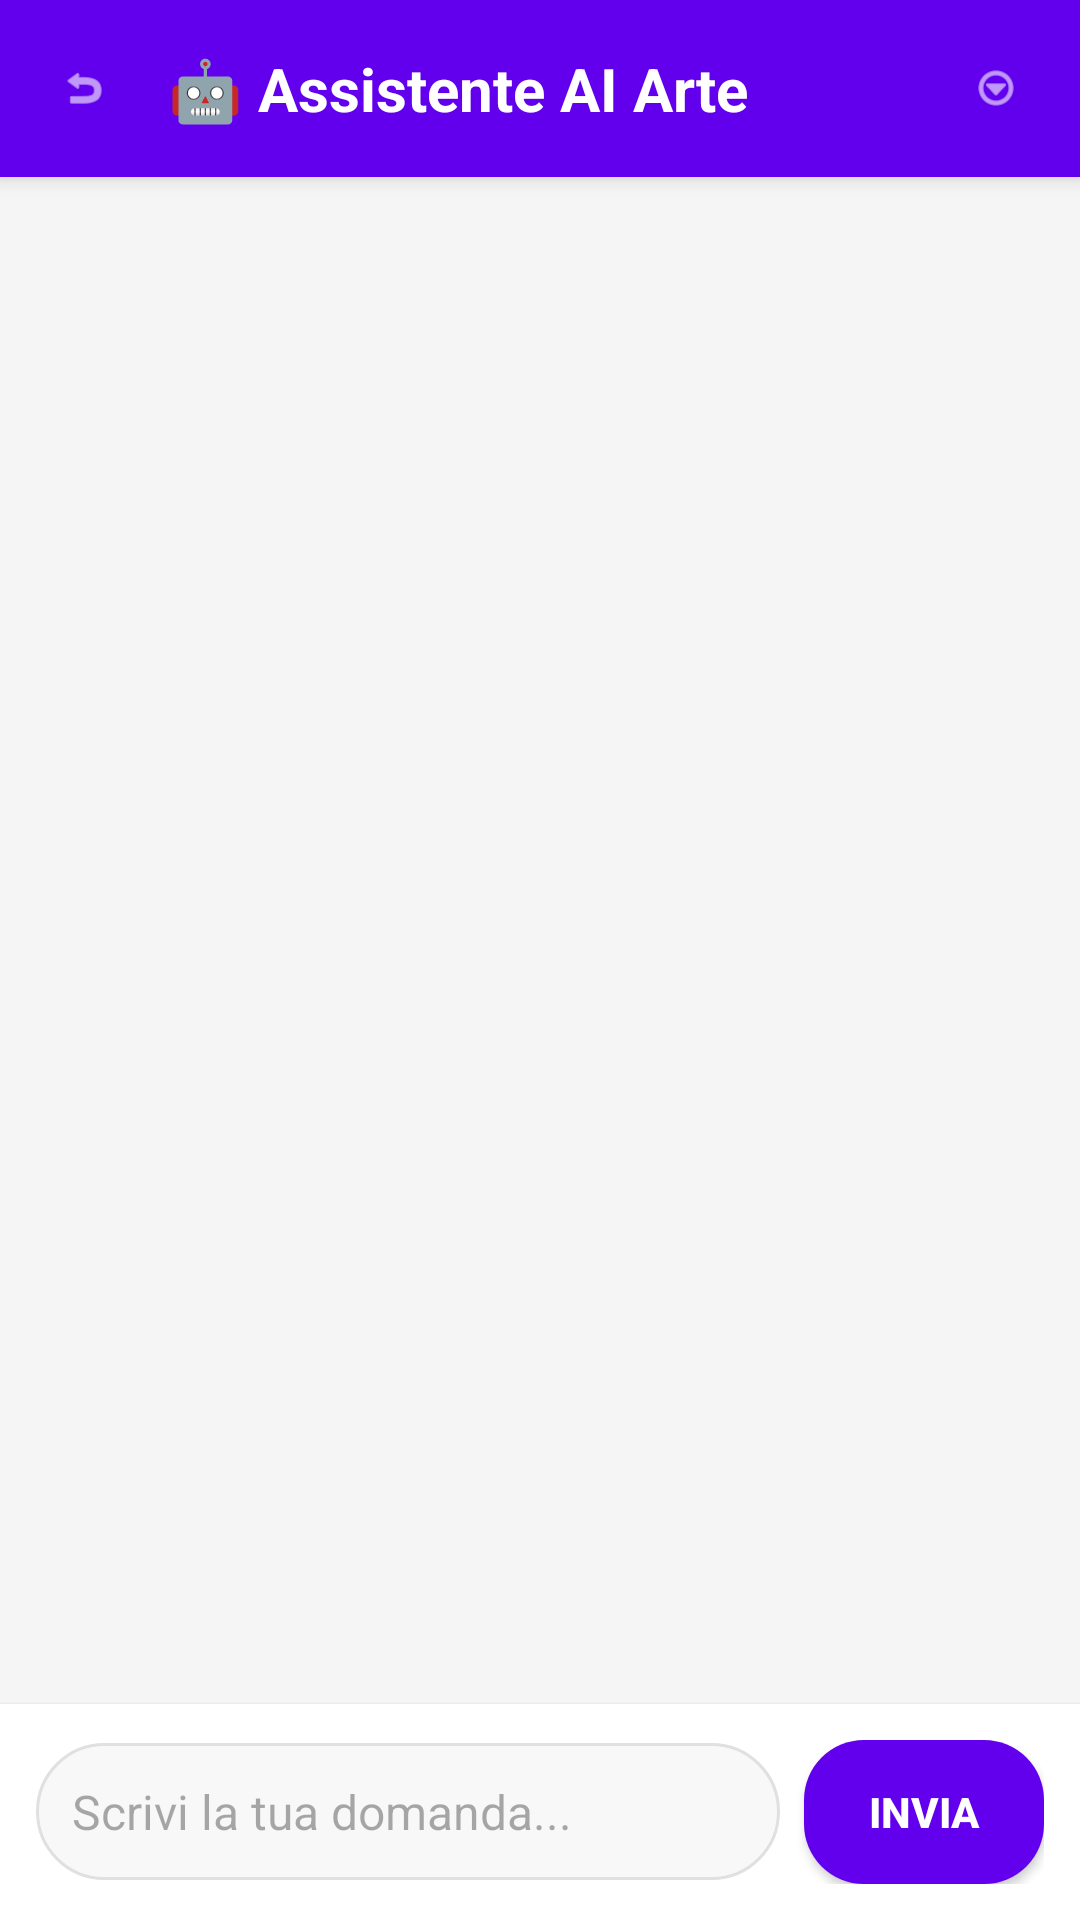

Screen size 1080w x 1920h. Icon name, then its center in pixels as (x,y):
more: (996,88)
revert: (84,88)
